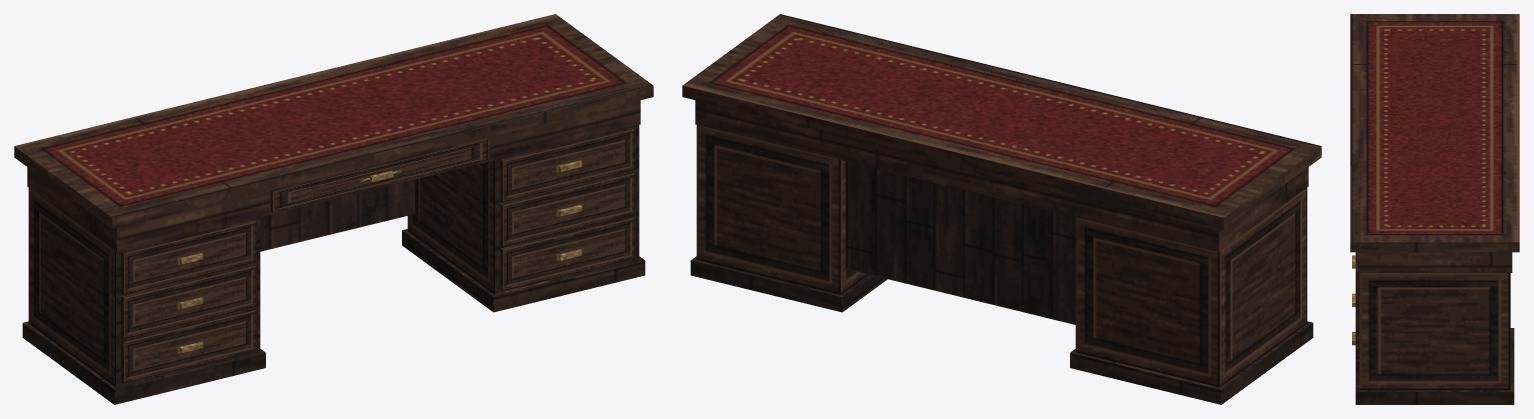
The model's file is Furn_Desk_Office.fbx.
3 views of the same model, side by side, from view 1: azimuth 30°, elevation 25°; view 2: azimuth 150°, elevation 25°; view 3: azimuth 270°, elevation 25° (orthographic). The views are drawn at different scales.
Parts seen in each view (by area): view 1: Furn_Desk_Office; view 2: Furn_Desk_Office; view 3: Furn_Desk_Office.
Boxes of the visible parts, left/top/right/bottom form: Furn_Desk_Office: left=14, top=14, right=653, bottom=404; Furn_Desk_Office: left=682, top=14, right=1321, bottom=404; Furn_Desk_Office: left=1350, top=14, right=1519, bottom=404.
Bounding box in the file's own units: 3 × 1.01 × 0.94.
